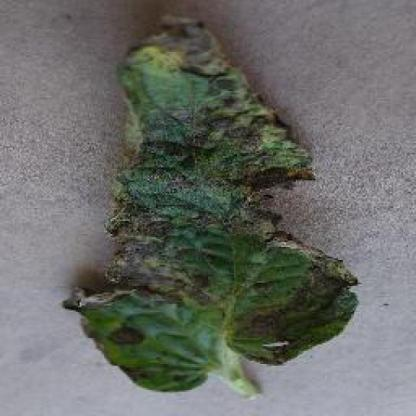Tomato_Blight: (60, 14, 358, 392)
